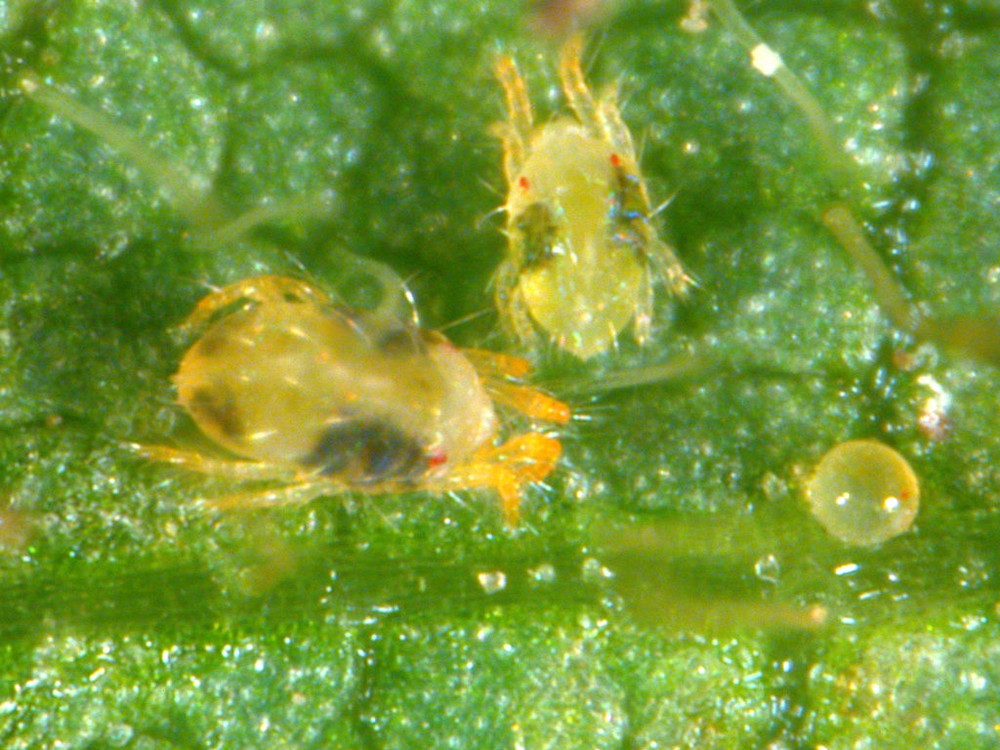Aracnido Rojo: (146, 260, 588, 548), (462, 35, 714, 388)
